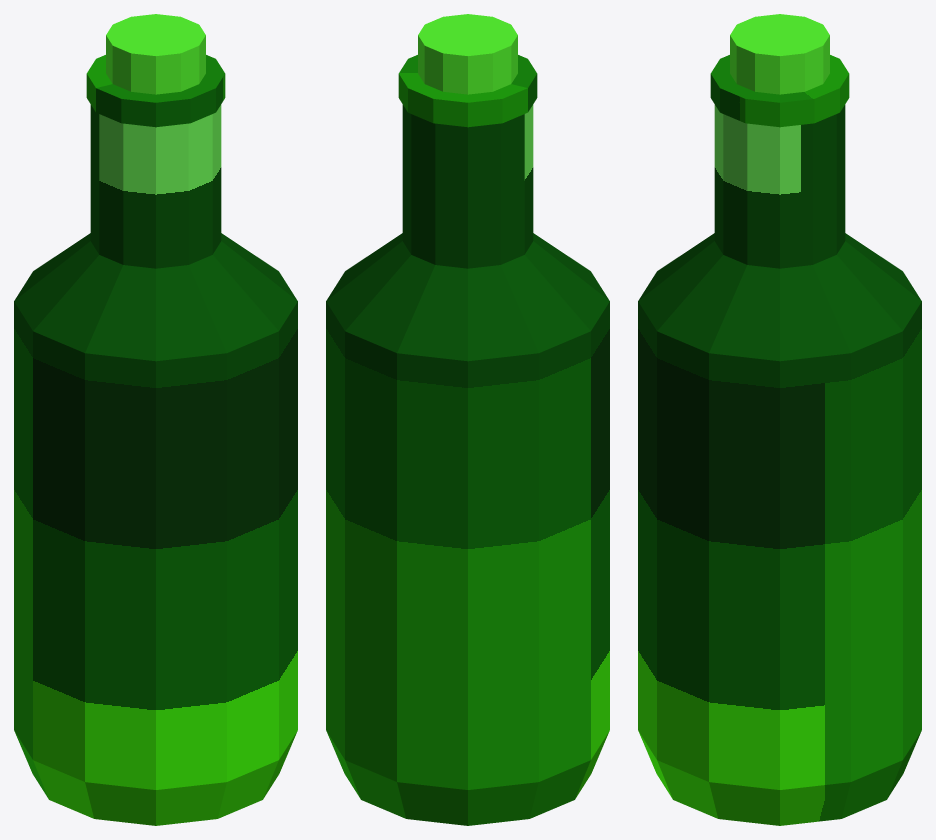
Rendered from bottle_616x08.gltf.
3 renders of one model, left to right at view 1: azimuth 30°, elevation 25°; view 2: azimuth 150°, elevation 25°; view 3: azimuth 270°, elevation 25°, orthographic.
Parts seen in each view (by area): view 1: bottle_616x08; view 2: bottle_616x08; view 3: bottle_616x08.
Boxes of the visible parts, left/top/right/bottom form: bottle_616x08: left=14, top=14, right=297, bottom=825; bottle_616x08: left=326, top=14, right=609, bottom=825; bottle_616x08: left=638, top=14, right=921, bottom=825.
Size of the model in its own units: 0.4052 by 1.16 by 0.4052.
Materials: 1 (1 with a texture image).
